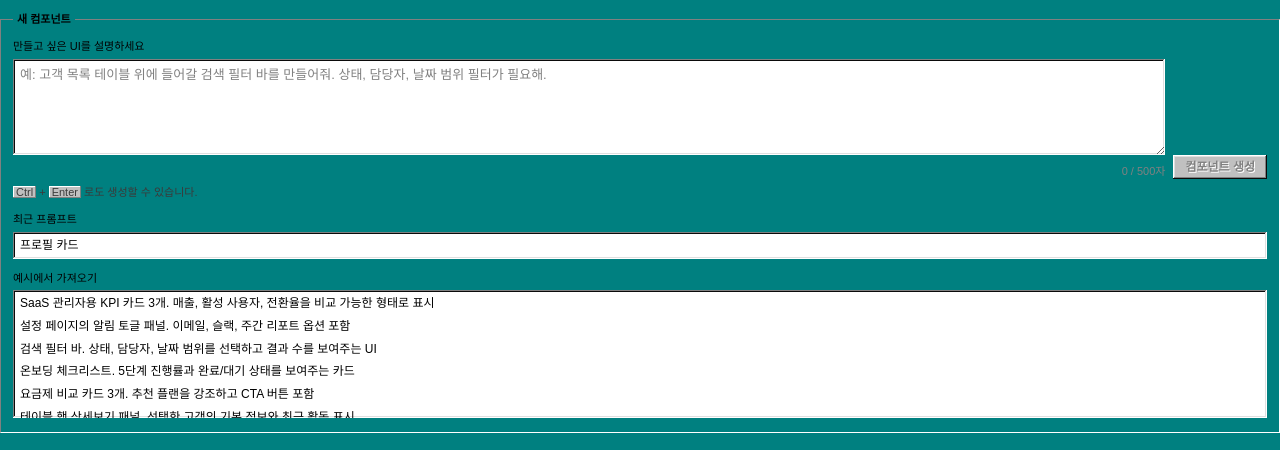
Test: PromptInput › 히스토리 항목을 누르면 입력란에 채워진다
Click the button "프로필 카드": (49,245) [15, 234, 1265, 257]
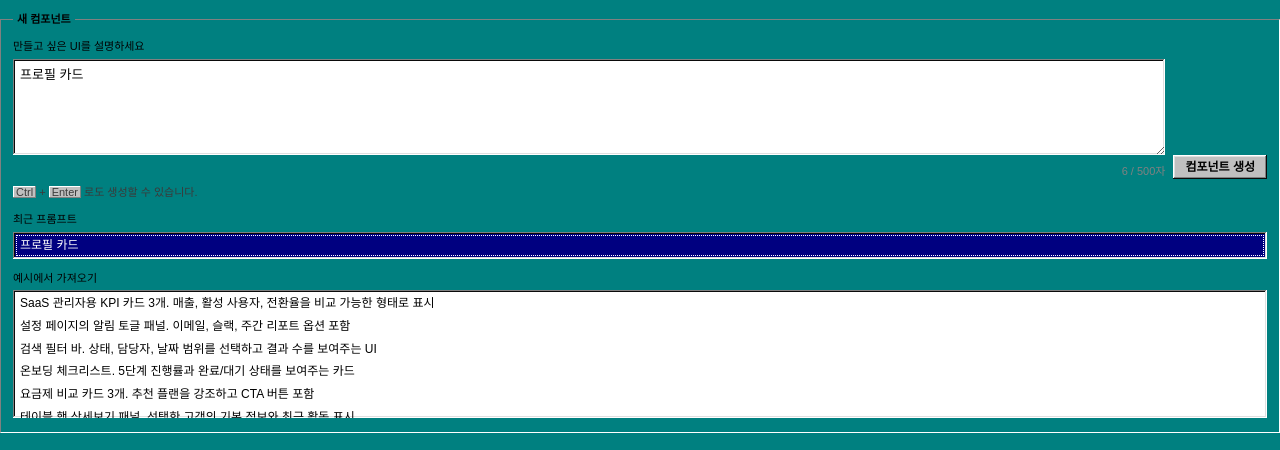
Result: the text box holds "프로필 카드" at [13, 59, 1165, 155]
